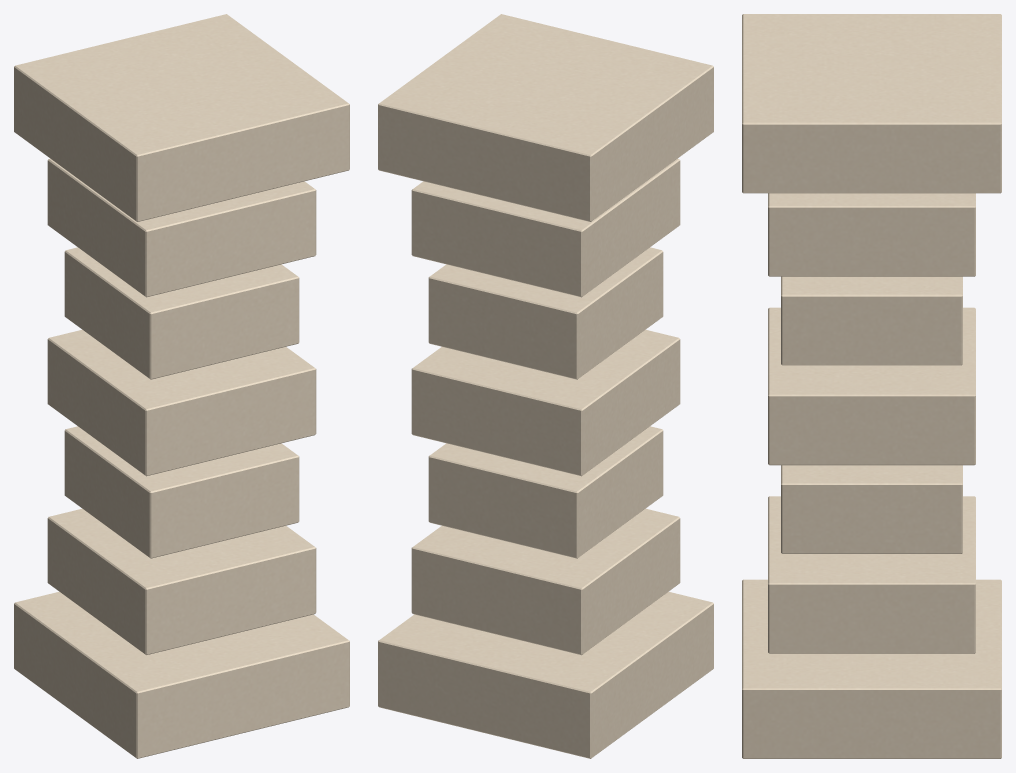
File: Colonne Test.fbx
3 views of the same model, side by side, from view 1: azimuth 30°, elevation 25°; view 2: azimuth 150°, elevation 25°; view 3: azimuth 270°, elevation 25° (orthographic). The views are drawn at different scales.
Visible parts, largest first — view 1: Colonne_Test; view 2: Colonne_Test; view 3: Colonne_Test.
Boxes of the visible parts, x1=… form: Colonne_Test: x1=14, y1=14, x2=349, y2=758; Colonne_Test: x1=378, y1=14, x2=713, y2=758; Colonne_Test: x1=742, y1=14, x2=1001, y2=758.
Size of the model in its own units: 200 by 540 by 200.
1 material, 1 textured.
